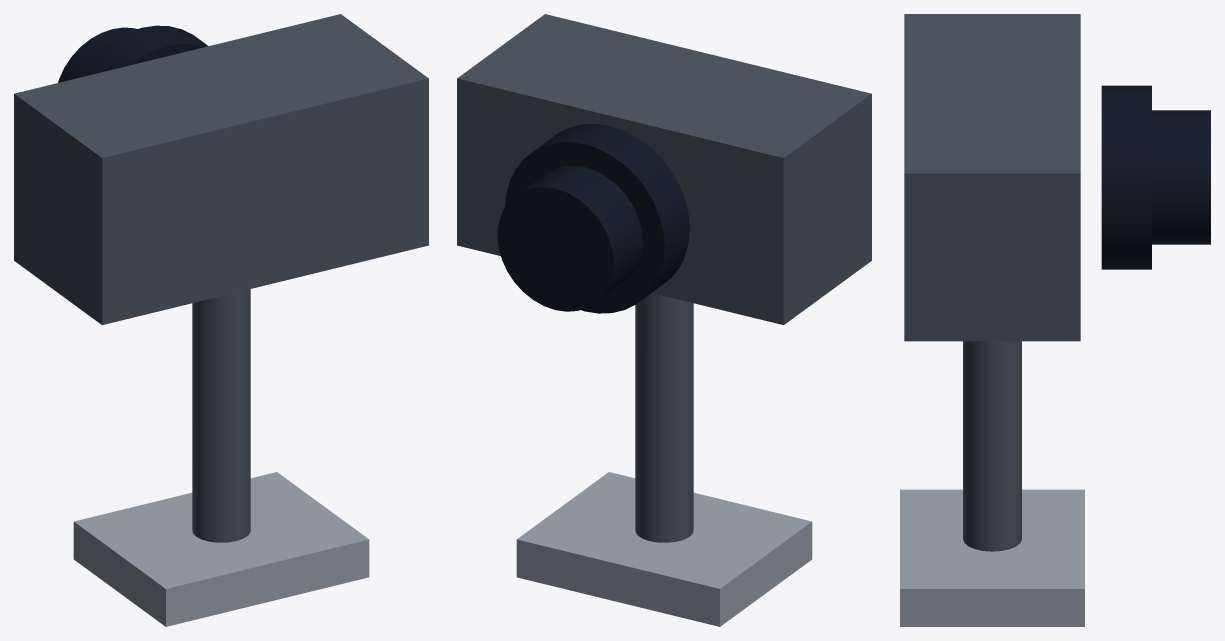
Rendered from camera-sensor-industrial.glb.
3 views of the same model, side by side, from view 1: azimuth 30°, elevation 25°; view 2: azimuth 150°, elevation 25°; view 3: azimuth 270°, elevation 25° (orthographic).
Visible parts, largest first — view 1: camera-sensor-industrial; view 2: camera-sensor-industrial; view 3: camera-sensor-industrial.
Part boxes in pixels (bbox=[...]): camera-sensor-industrial: bbox=[14, 14, 428, 626]; camera-sensor-industrial: bbox=[457, 14, 871, 626]; camera-sensor-industrial: bbox=[900, 14, 1210, 626].
Bounding box in the file's own units: 0.9 × 1.3 × 0.74.
